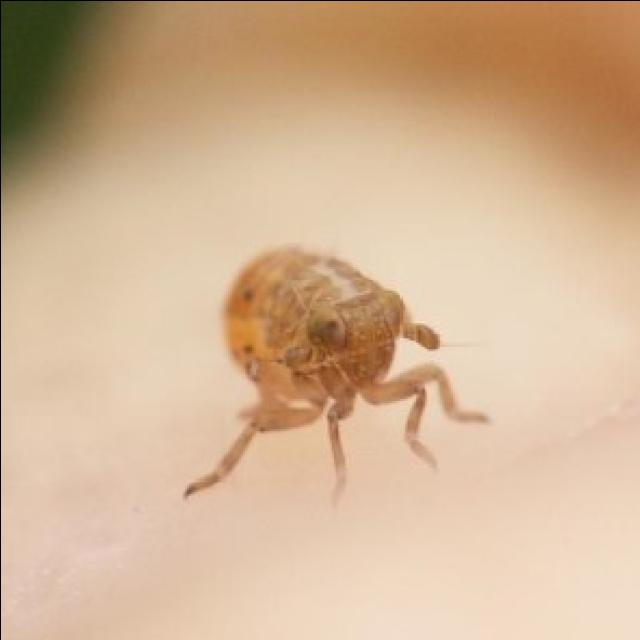brown plant hopper: (186, 246, 486, 493)
